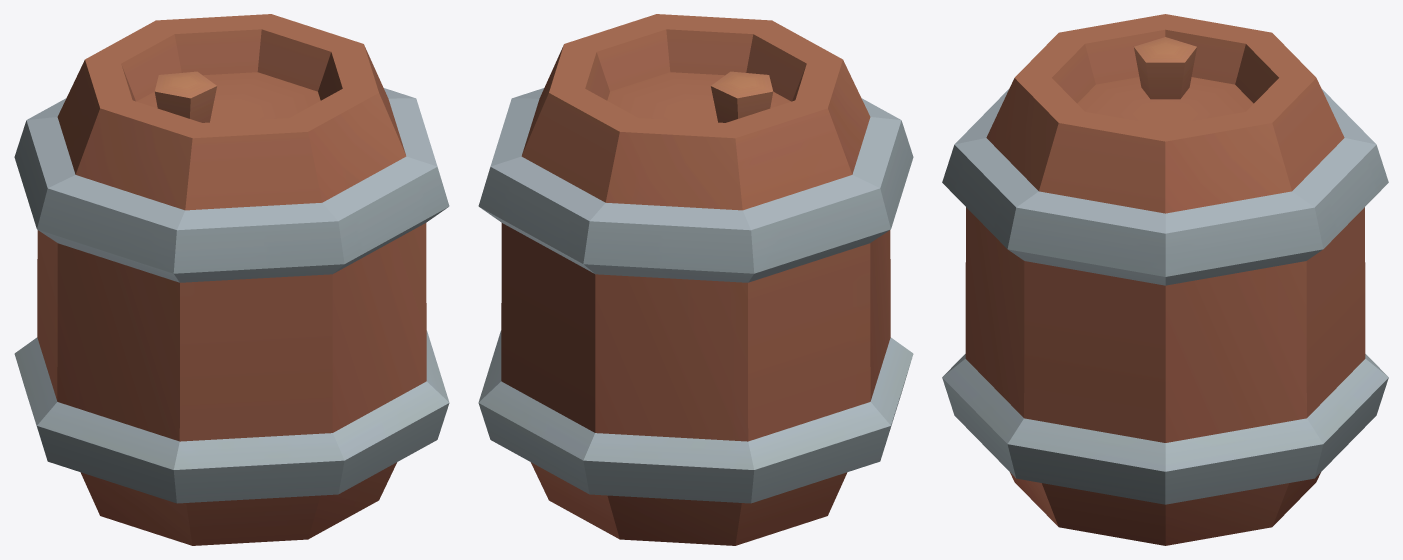
The model's file is kaykit-dungeon-remastered-barrel-small-gltf.glb.
The picture shows the model from 3 angles, left to right: view 1: azimuth 30°, elevation 25°; view 2: azimuth 150°, elevation 25°; view 3: azimuth 270°, elevation 25°; orthographic projection.
Visible parts, largest first — view 1: barrel_small; view 2: barrel_small; view 3: barrel_small.
Part boxes in pixels (x1,y1,x2,y2): barrel_small: (14, 14, 449, 545); barrel_small: (478, 14, 913, 545); barrel_small: (942, 14, 1388, 545).
Bounding box in the file's own units: 1 × 1.02 × 1.
Materials: 1 (1 with a texture image).
